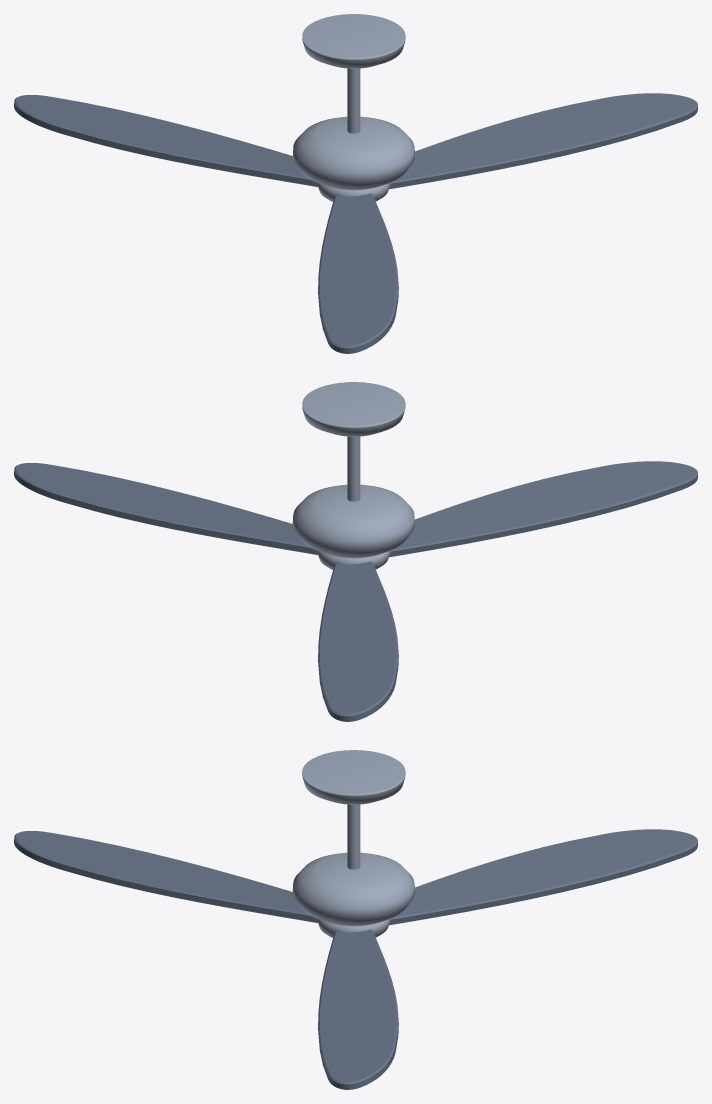
Rendered from ceiling-fan.glb.
3 views of the same model, one above another, from view 1: azimuth 30°, elevation 25°; view 2: azimuth 150°, elevation 25°; view 3: azimuth 270°, elevation 25° (orthographic).
Parts seen in each view (by area): view 1: ceiling-fan-rotor-blade, ceiling-fan-body, ceiling-fan-rotor-body; view 2: ceiling-fan-rotor-blade, ceiling-fan-body, ceiling-fan-rotor-body; view 3: ceiling-fan-rotor-blade, ceiling-fan-body, ceiling-fan-rotor-body.
Part boxes in pixels (bbox=[...]): ceiling-fan-rotor-blade: bbox=[14, 93, 697, 353]; ceiling-fan-body: bbox=[292, 14, 414, 190]; ceiling-fan-rotor-body: bbox=[317, 183, 390, 201]; ceiling-fan-rotor-blade: bbox=[14, 461, 697, 721]; ceiling-fan-body: bbox=[292, 382, 414, 558]; ceiling-fan-rotor-body: bbox=[317, 551, 390, 569]; ceiling-fan-rotor-blade: bbox=[14, 829, 697, 1089]; ceiling-fan-body: bbox=[292, 750, 415, 926]; ceiling-fan-rotor-body: bbox=[317, 919, 390, 937].
Bounding box in the file's own units: 1.01 × 0.306 × 1.15.
